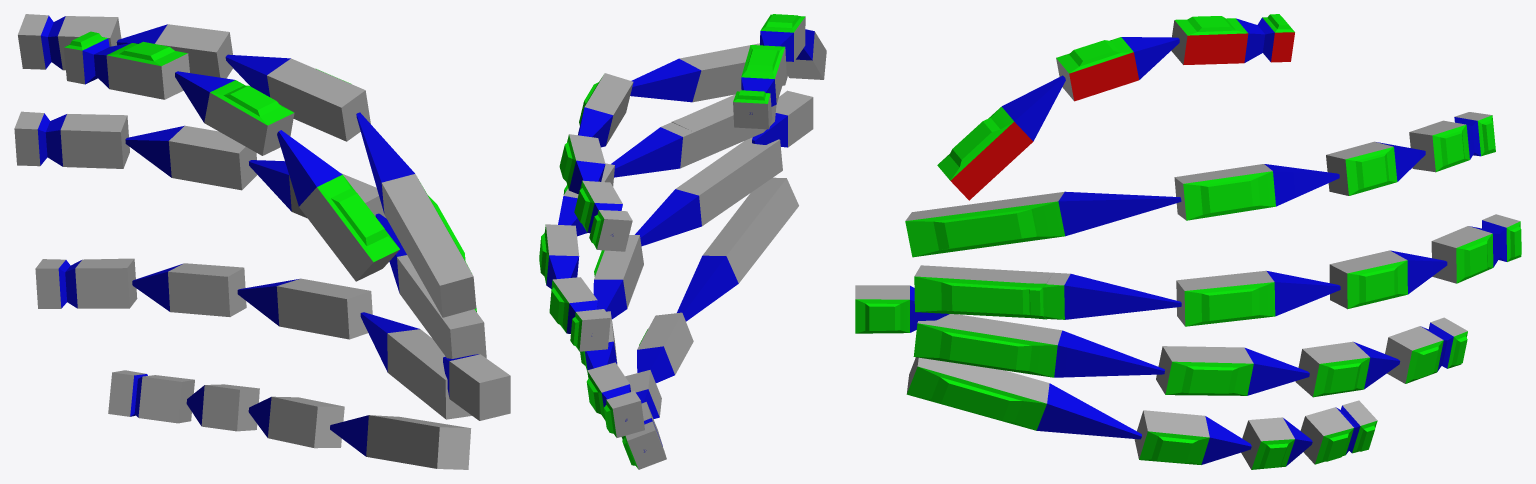
Rendered from openxr_proxy_right.glb.
3 renders of one model, left to right at view 1: azimuth 30°, elevation 25°; view 2: azimuth 150°, elevation 25°; view 3: azimuth 270°, elevation 25°, orthographic. The views are drawn at different scales.
Parts seen in each view (by area): view 1: Index_Metacarpal_R_MSH, Thumb_Metacarpal_R_MSH, Index_Proximal_R_MSH, Ring_Proximal_R_MSH, Little_Metacarpal_R_MSH, Middle_Intermediate_R_MSH, Thumb_Proximal_R_MSH, Ring_Metacarpal_R_MSH, Ring_Intermediate_R_MSH, Middle_Metacarpal_R_MSH, Middle_Distal_R_MSH, Thumb_Distal_R_MSH (+13 smaller); view 2: Little_Metacarpal_R_MSH, Ring_Metacarpal_R_MSH, Middle_Metacarpal_R_MSH, Index_Metacarpal_R_MSH, Ring_Proximal_R_MSH, Little_Proximal_R_MSH, Index_Proximal_R_MSH, Wrist_R_MSH, Middle_Intermediate_R_MSH, Thumb_Distal_R_MSH, Index_Intermediate_R_MSH, Middle_Distal_R_MSH (+12 smaller); view 3: Index_Metacarpal_R_MSH, Ring_Metacarpal_R_MSH, Middle_Metacarpal_R_MSH, Little_Metacarpal_R_MSH, Middle_Proximal_R_MSH, Thumb_Metacarpal_R_MSH, Index_Proximal_R_MSH, Ring_Proximal_R_MSH, Thumb_Proximal_R_MSH, Little_Proximal_R_MSH, Middle_Intermediate_R_MSH, Ring_Intermediate_R_MSH (+14 smaller).
Boxes of the visible parts, <box> form: Index_Metacarpal_R_MSH: <box>356,112,476,317</box>; Thumb_Metacarpal_R_MSH: <box>277,130,399,281</box>; Index_Proximal_R_MSH: <box>225,54,370,141</box>; Ring_Proximal_R_MSH: <box>237,278,372,339</box>; Little_Metacarpal_R_MSH: <box>330,415,471,469</box>; Middle_Intermediate_R_MSH: <box>125,125,257,190</box>; Thumb_Proximal_R_MSH: <box>175,71,294,155</box>; Ring_Metacarpal_R_MSH: <box>360,312,471,419</box>; Ring_Intermediate_R_MSH: <box>132,263,246,316</box>; Middle_Metacarpal_R_MSH: <box>375,213,486,358</box>; Middle_Distal_R_MSH: <box>45,114,129,168</box>; Thumb_Distal_R_MSH: <box>94,41,189,99</box>; Little_Metacarpal_R_MSH: <box>677,177,798,321</box>; Ring_Metacarpal_R_MSH: <box>635,137,782,246</box>; Middle_Metacarpal_R_MSH: <box>611,94,776,177</box>; Index_Metacarpal_R_MSH: <box>630,43,787,102</box>; Ring_Proximal_R_MSH: <box>593,235,643,319</box>; Little_Proximal_R_MSH: <box>637,312,693,383</box>; Index_Proximal_R_MSH: <box>578,73,633,147</box>; Wrist_R_MSH: <box>752,90,813,147</box>; Middle_Intermediate_R_MSH: <box>539,224,579,288</box>; Thumb_Distal_R_MSH: <box>741,45,786,114</box>; Index_Intermediate_R_MSH: <box>559,134,605,194</box>; Middle_Distal_R_MSH: <box>549,277,597,336</box>; Index_Metacarpal_R_MSH: <box>905,191,1181,257</box>; Ring_Metacarpal_R_MSH: <box>913,314,1164,377</box>; Middle_Metacarpal_R_MSH: <box>914,265,1181,319</box>; Little_Metacarpal_R_MSH: <box>906,357,1141,439</box>; Middle_Proximal_R_MSH: <box>1176,270,1340,326</box>; Thumb_Metacarpal_R_MSH: <box>937,75,1065,200</box>; Index_Proximal_R_MSH: <box>1174,164,1339,220</box>; Ring_Proximal_R_MSH: <box>1156,346,1309,395</box>; Thumb_Proximal_R_MSH: <box>1056,37,1179,101</box>; Little_Proximal_R_MSH: <box>1134,410,1251,464</box>; Middle_Intermediate_R_MSH: <box>1329,250,1447,309</box>; Ring_Intermediate_R_MSH: <box>1295,341,1400,397</box>.
Bounding box in the file's own units: 7.5 × 11.67 × 17.51.
